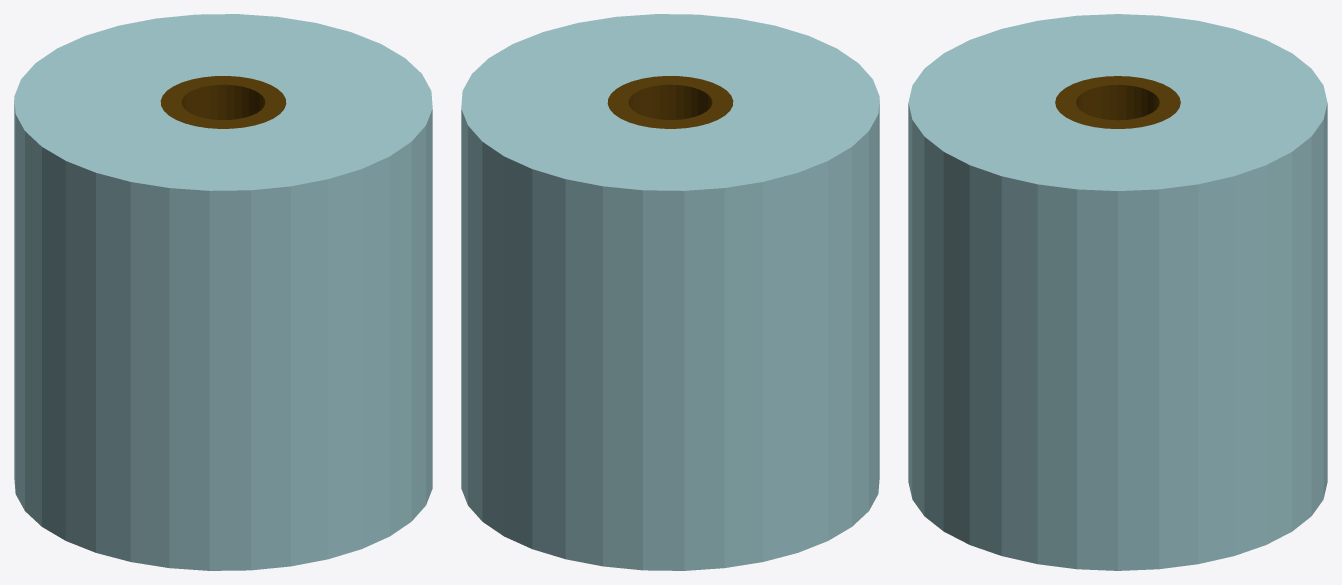
File: toiletrol.glb
3 views of the same model, side by side, from view 1: azimuth 30°, elevation 25°; view 2: azimuth 150°, elevation 25°; view 3: azimuth 270°, elevation 25° (orthographic).
Visible parts, largest first — view 1: Cylinder, Cylinder.001; view 2: Cylinder, Cylinder.001; view 3: Cylinder, Cylinder.001.
Boxes of the visible parts, <box> form: Cylinder: <box>14,14,432,570</box>; Cylinder.001: <box>160,76,286,128</box>; Cylinder: <box>461,14,879,570</box>; Cylinder.001: <box>607,76,733,128</box>; Cylinder: <box>908,14,1327,570</box>; Cylinder.001: <box>1055,76,1180,128</box>.
Size of the model in its own units: 0.1 by 0.1 by 0.1.
